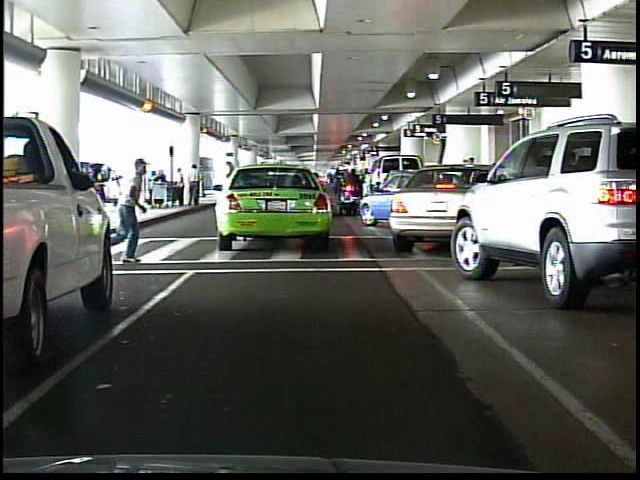person: (113, 152, 165, 271)
